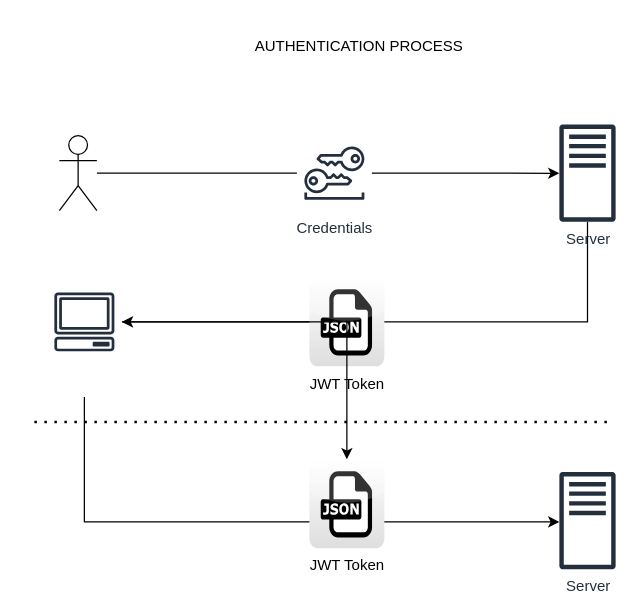
Image size: 638x616. Some labels were removed from this diagram. The shapes that lost their labels are listed below. From the top down, each one's box as (x1, y1, x2, y2) in pixels, then its label:
(58, 134, 97, 211): User
(46, 283, 122, 359): Client localStorage
